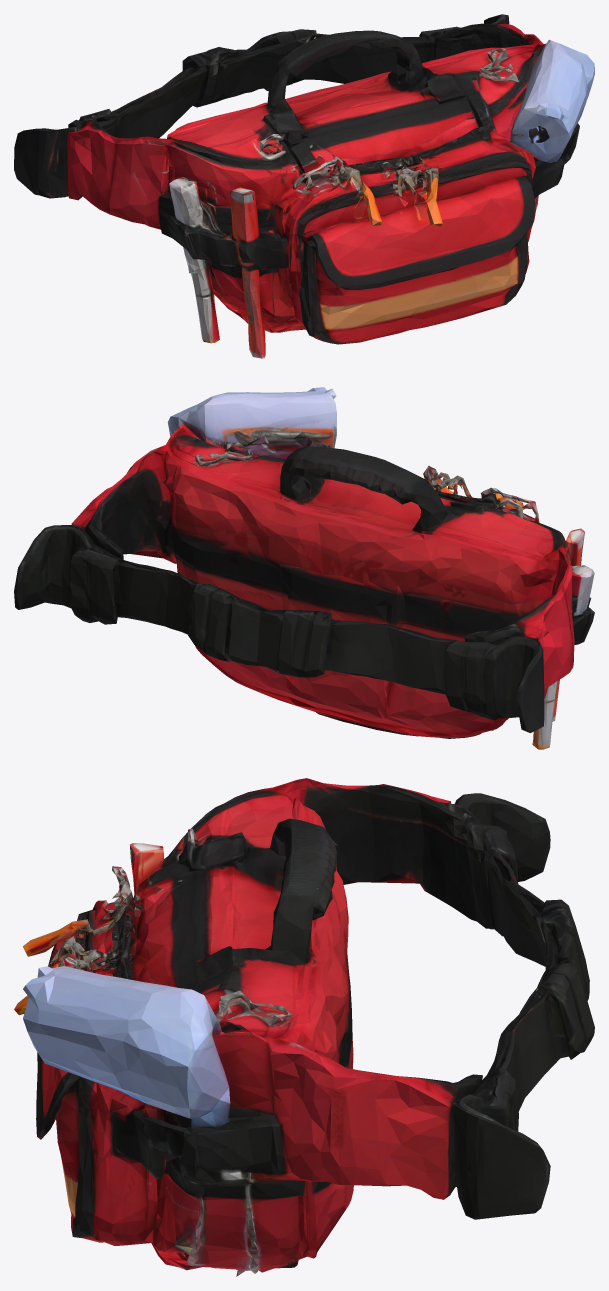
Rendered from Red_Utility_Waist_Bag_0627095037_texture.obj.
3 renders of one model, top to bottom at view 1: azimuth 30°, elevation 25°; view 2: azimuth 150°, elevation 25°; view 3: azimuth 270°, elevation 25°, orthographic. The views are drawn at different scales.
Visible parts, largest first — view 1: Red_Utility_Waist_Bag_0627095037_texture; view 2: Red_Utility_Waist_Bag_0627095037_texture; view 3: Red_Utility_Waist_Bag_0627095037_texture.
Boxes of the visible parts, box(x1,y1,x2,y2) form: Red_Utility_Waist_Bag_0627095037_texture: box(14, 14, 594, 358); Red_Utility_Waist_Bag_0627095037_texture: box(14, 387, 594, 749); Red_Utility_Waist_Bag_0627095037_texture: box(14, 778, 594, 1276).
Size of the model in its own units: 2 by 1.03 by 1.45.
Materials: 1 (1 with a texture image).
